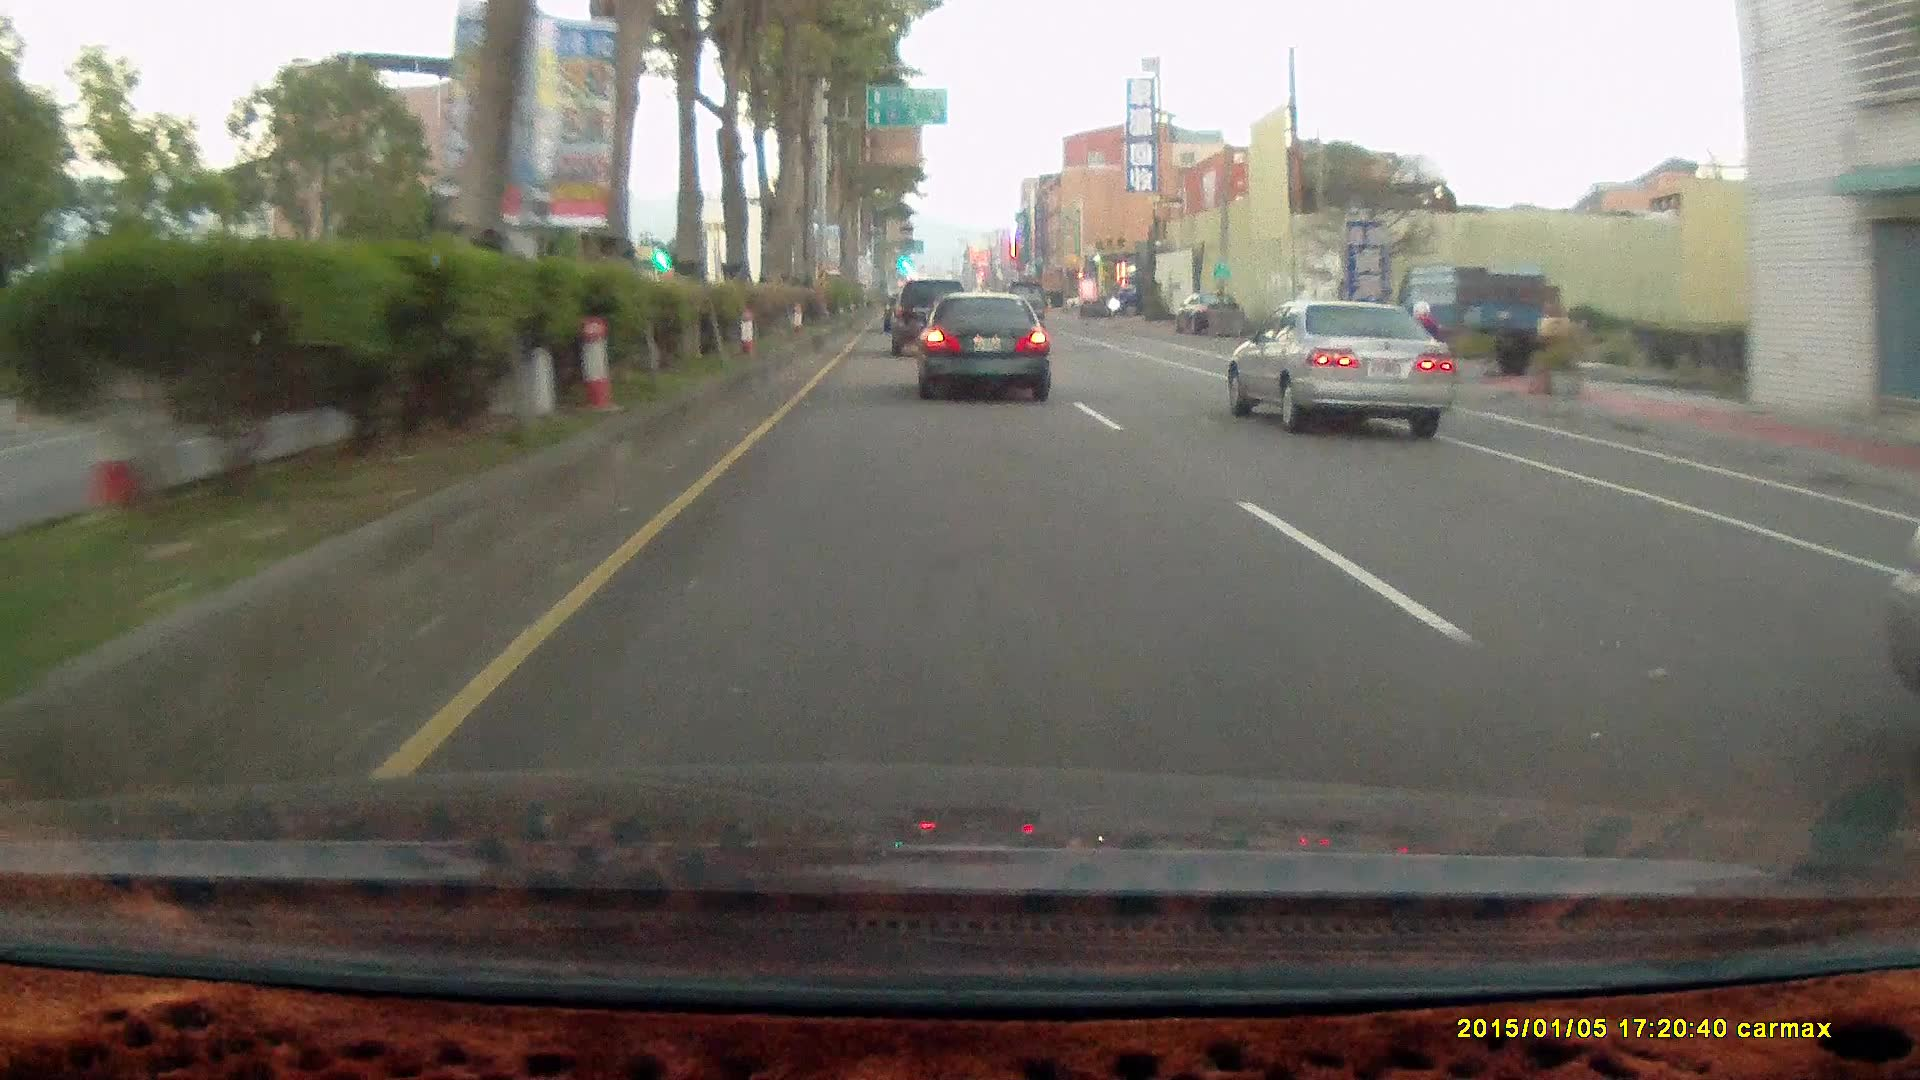rider: (1387, 301, 1450, 414), (1401, 296, 1453, 405)
vehicle: (1226, 302, 1464, 443), (1225, 298, 1455, 439), (1397, 263, 1549, 375), (1398, 267, 1549, 377), (912, 294, 1050, 404), (920, 297, 1055, 404), (888, 280, 970, 358), (1174, 295, 1250, 343), (1105, 281, 1171, 320), (999, 279, 1046, 328)
